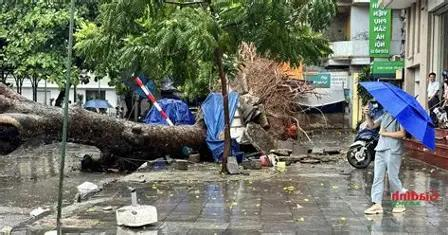ROAD_OBSTACLE: (0, 40, 338, 195)
